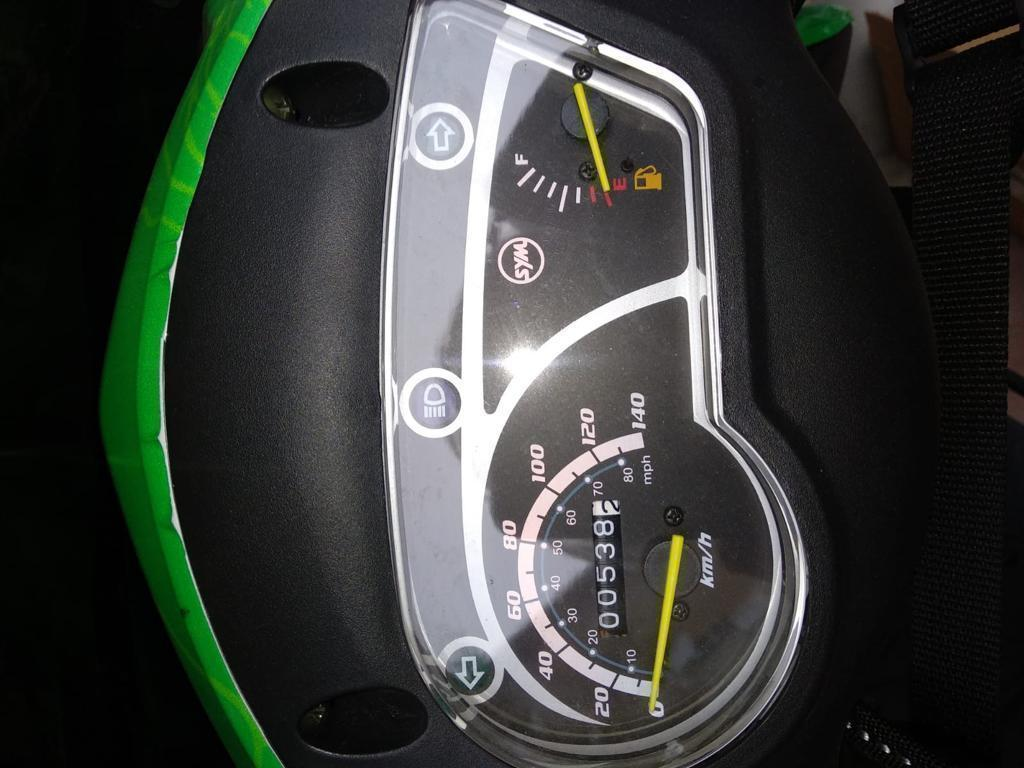0: (595, 588, 620, 605), (597, 610, 620, 628)
2: (599, 497, 624, 514)
3: (593, 542, 617, 559)
5: (594, 564, 619, 583)
8: (592, 519, 618, 536)
odometer: (590, 494, 632, 630)
